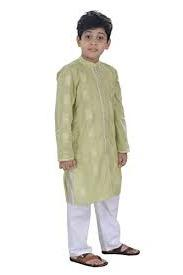Human: (43, 11, 151, 267)
